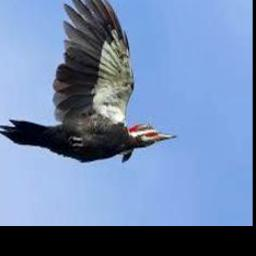Woodpecker: (0, 0, 178, 161)
